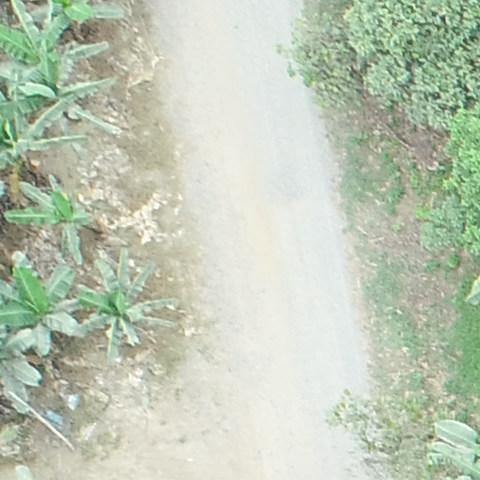Banana-plant: (65, 251, 179, 356), (0, 41, 121, 139), (0, 249, 95, 358), (4, 168, 106, 264), (0, 0, 111, 82), (0, 80, 86, 183)
